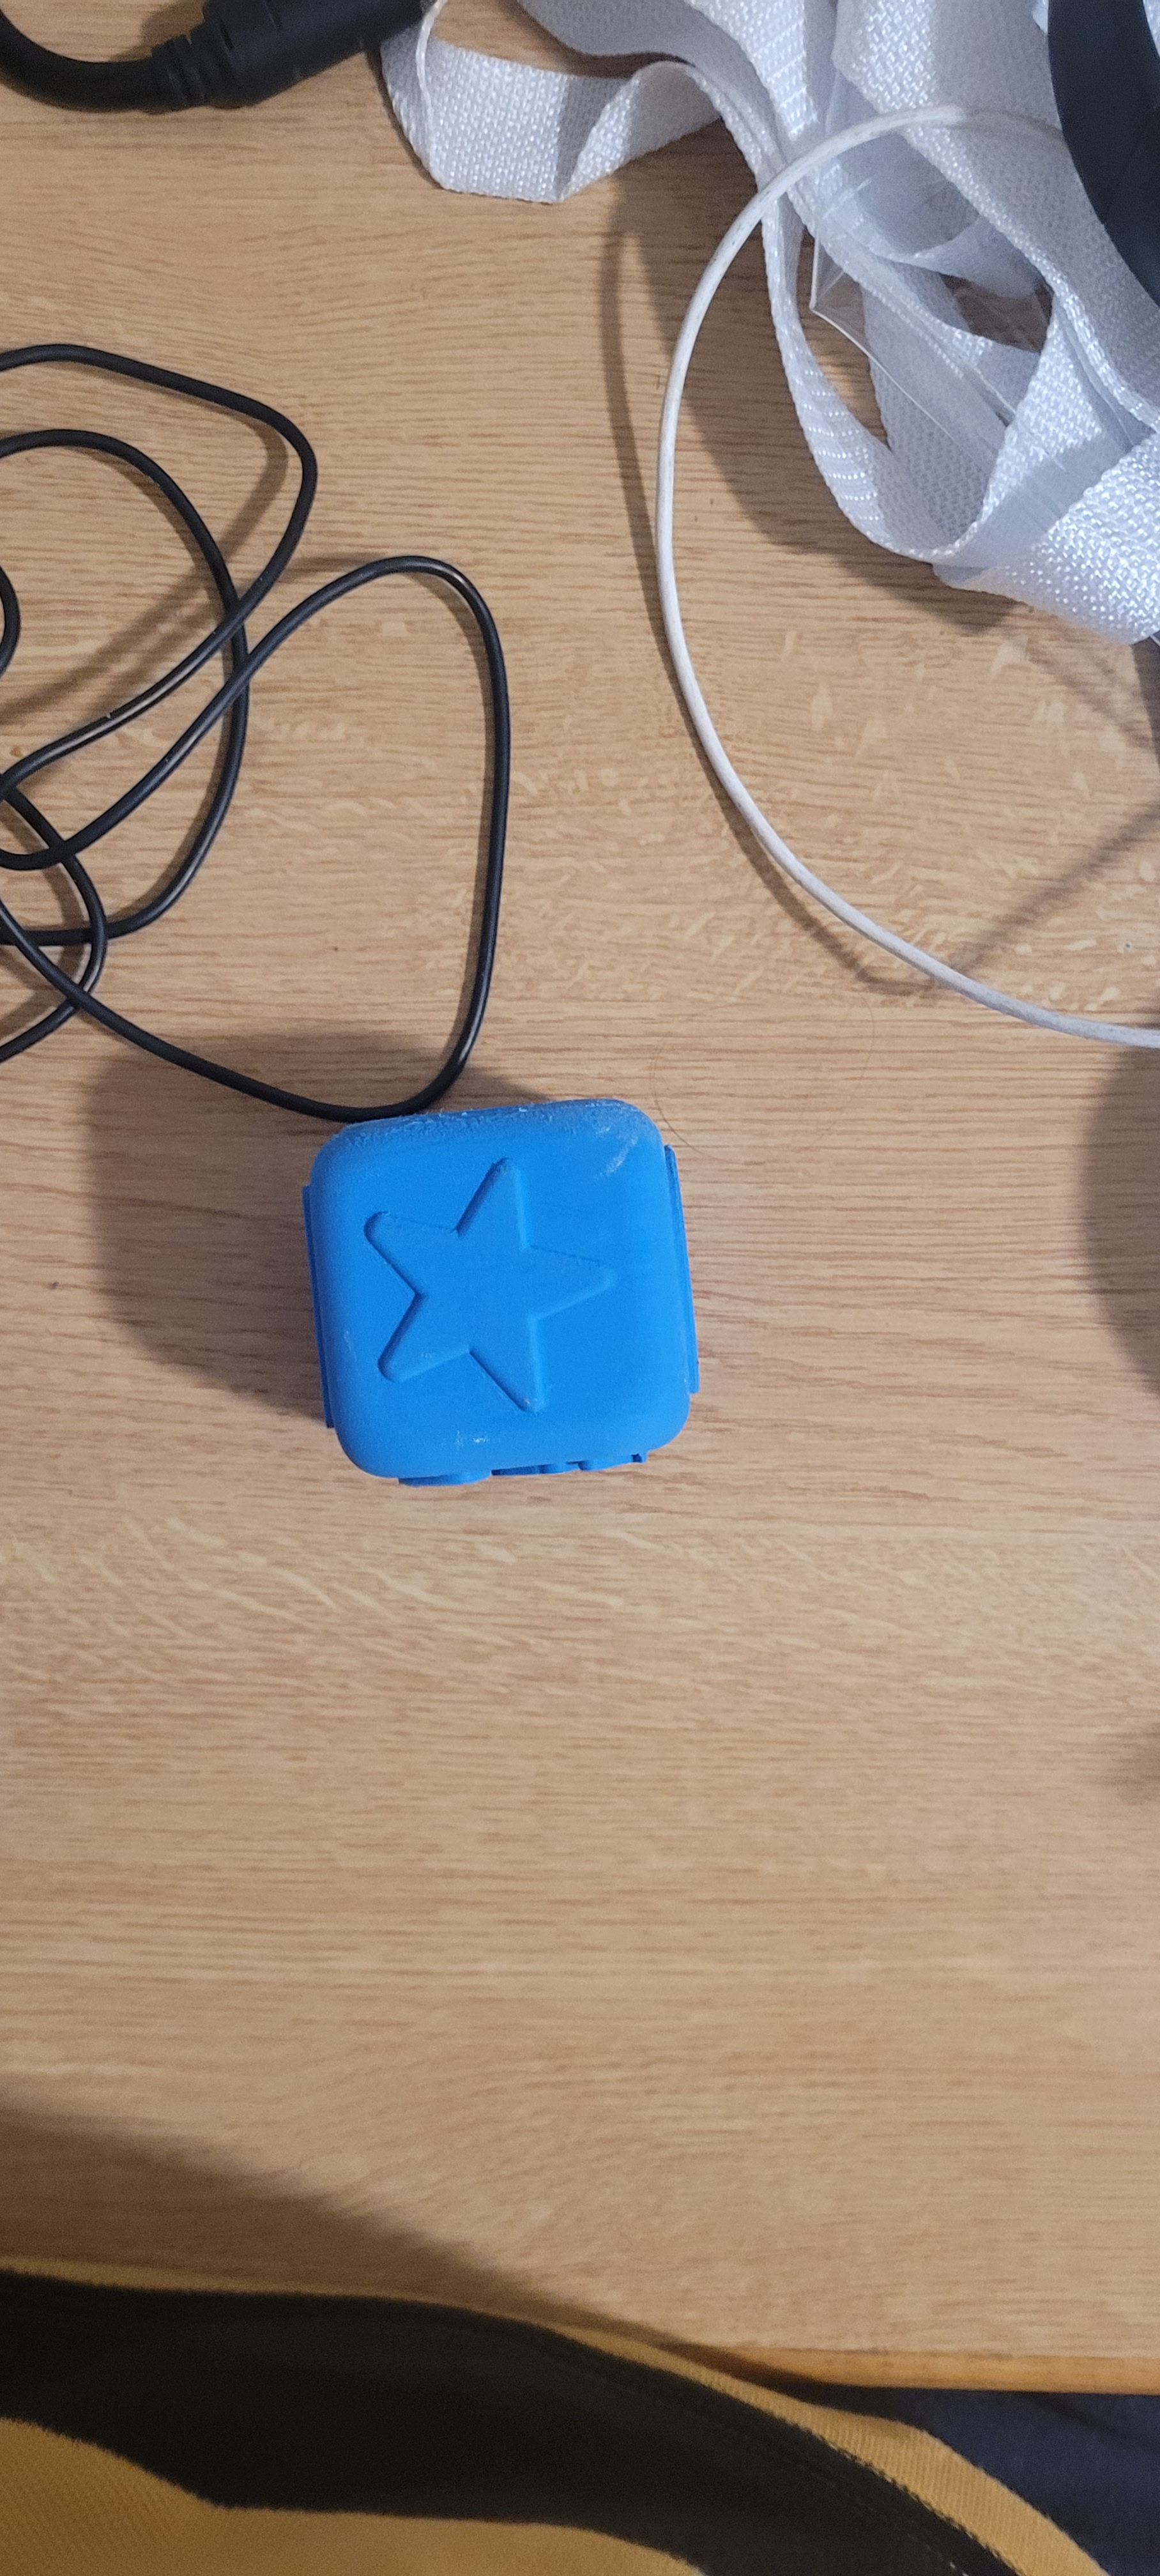Star: (320, 1106, 652, 1477)
